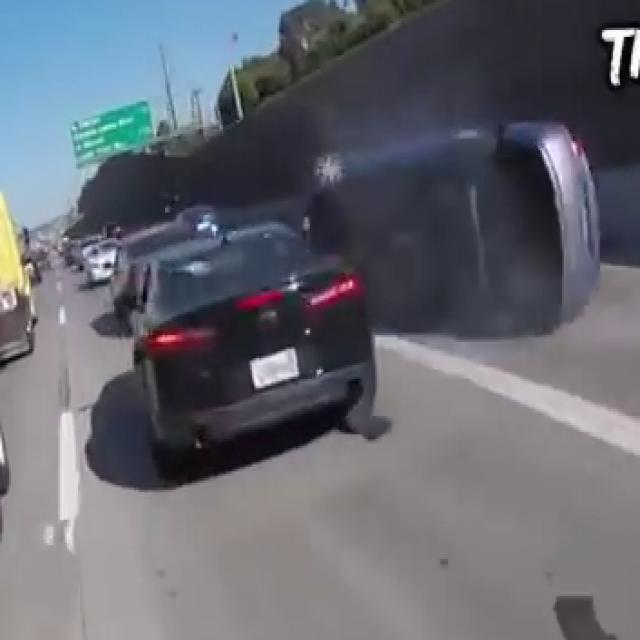accident: (308, 123, 610, 370)
